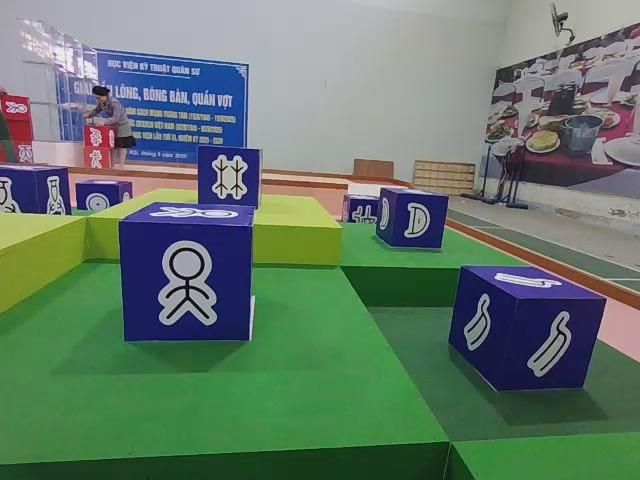R2 Real Blue: (448, 266, 601, 394), (119, 203, 254, 343), (376, 187, 449, 252), (198, 145, 263, 213), (0, 164, 72, 216), (75, 179, 132, 211), (342, 194, 380, 224)
